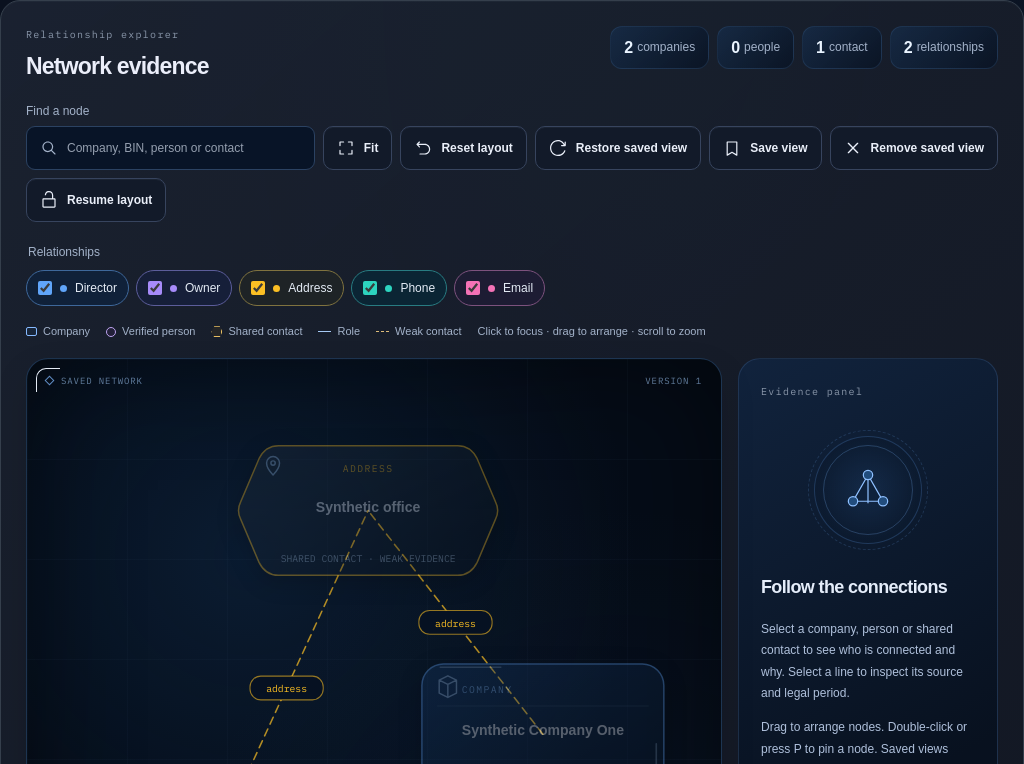
Test: saved graph React lifecycle › uses authenticated PUT with the exact graph hash and fetched view revision; a conflict is visible
Click the button "Save view".
click(765, 148)  # box [709,126,822,170]
(page scrolled)
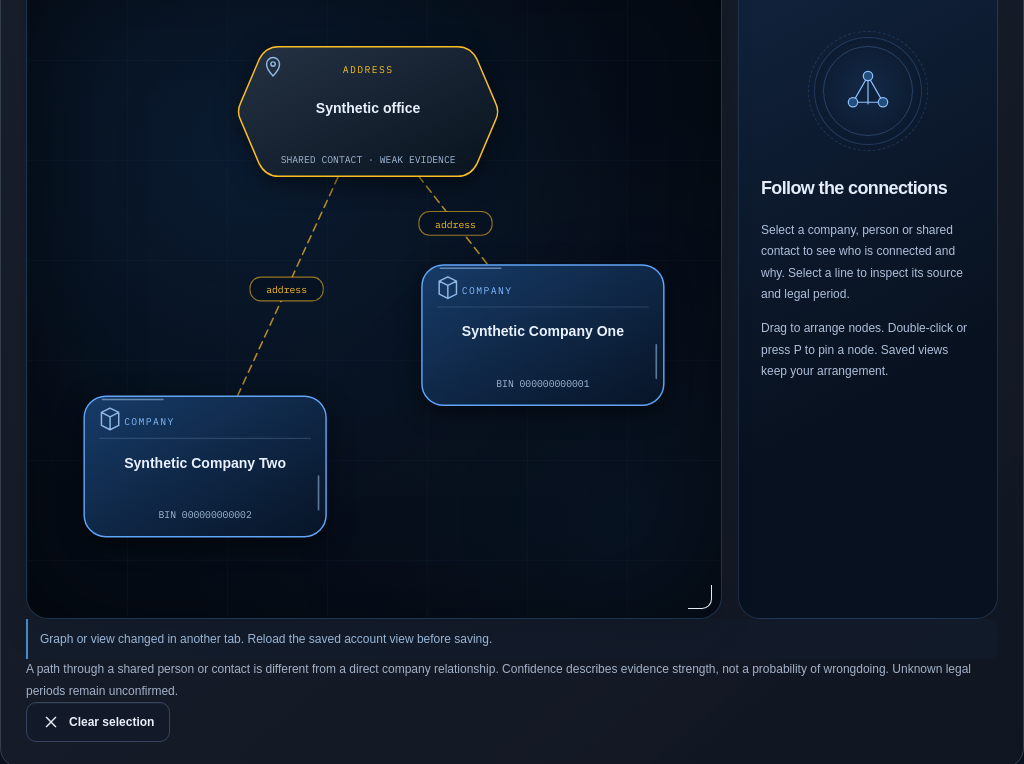
Expected: the message shows "changed in another tab", [40,632,492,646]
